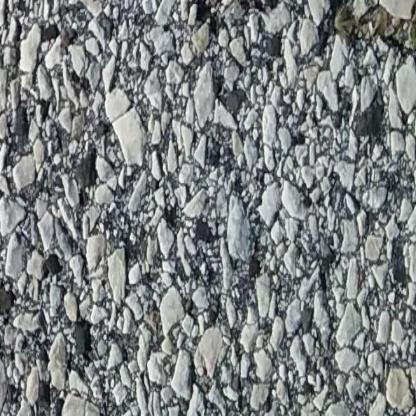Cracks: (179, 0, 416, 55)
